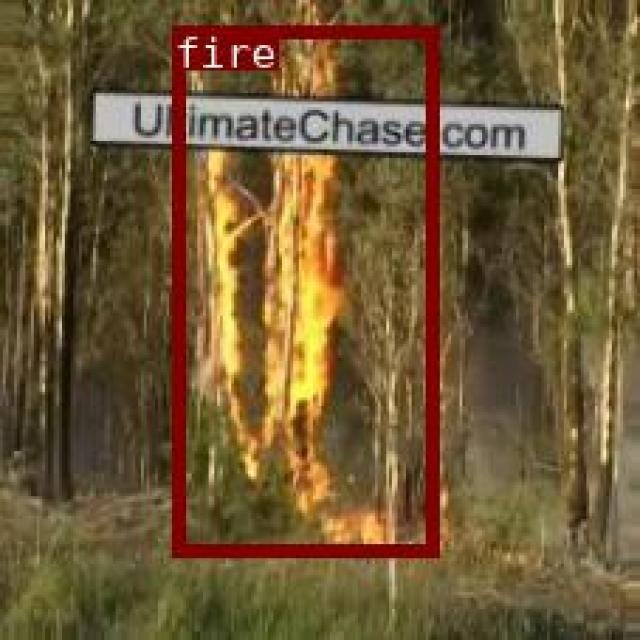fire: (171, 25, 436, 554)
